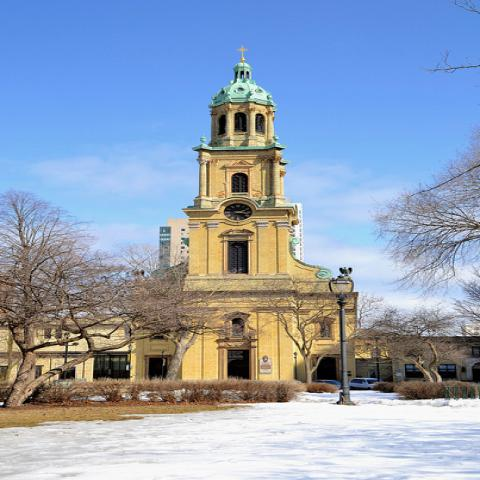car: (348, 378, 384, 390), (312, 380, 341, 389)
